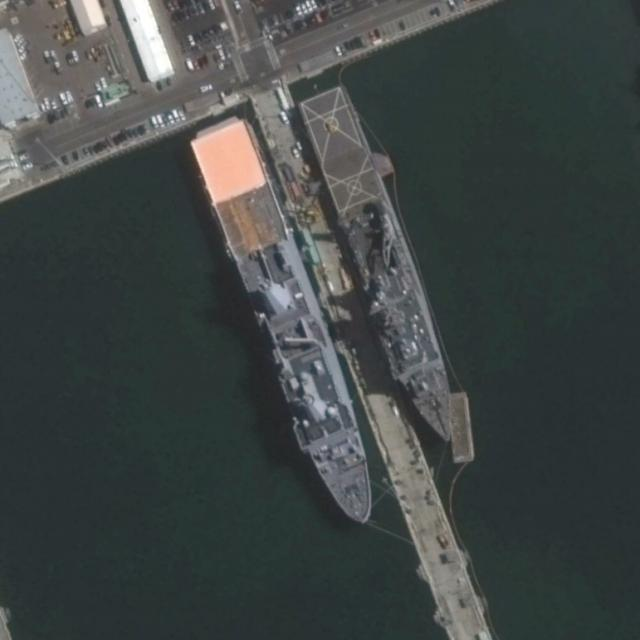Auxiliary Ships: (187, 109, 397, 538)
Landing: (294, 82, 475, 452)
